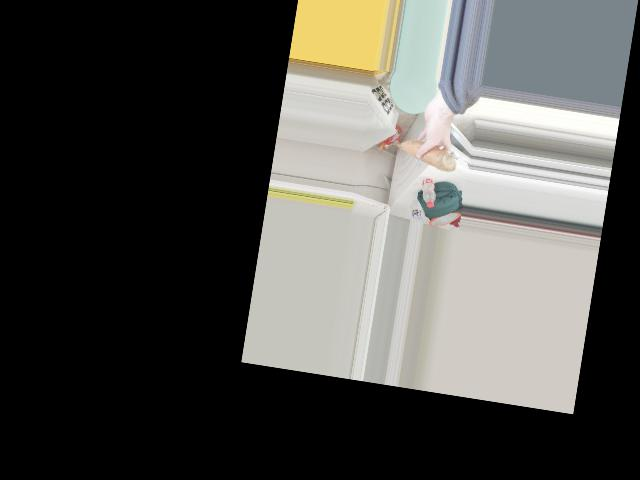sweet_potato: (392, 141, 458, 168)
